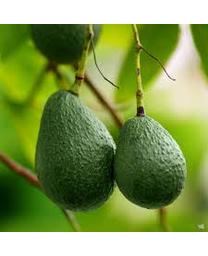avocado: (33, 90, 120, 213), (112, 113, 188, 210)
